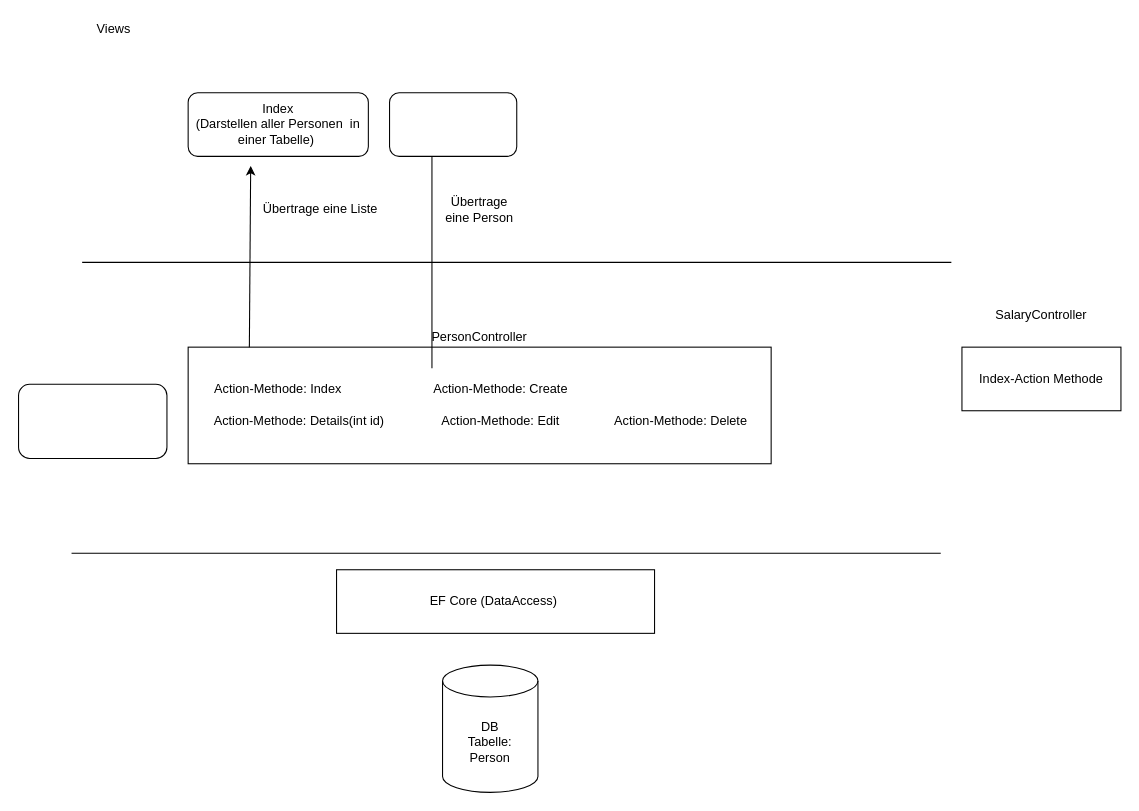
Image size: 1139x811. Some labels were removed from this diagram. Here are the shapes that lost their labels. From the top down, the centre of each, then its label:
(452,124): Details
(92,420): class Person (Model)
